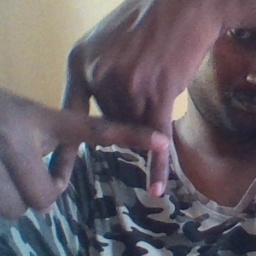H: (25, 58, 187, 204)
